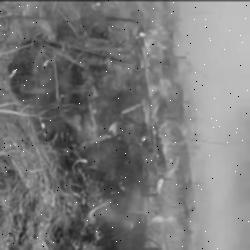fire: (3, 22, 200, 250)
